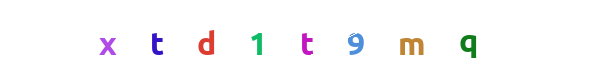1: (254, 0, 334, 80)
9: (309, 0, 389, 80)
D: (167, 0, 247, 80)
M: (349, 0, 429, 80)
Q: (429, 0, 509, 80)
T: (166, 0, 246, 80), (265, 0, 345, 80)
X: (116, 0, 196, 80)
